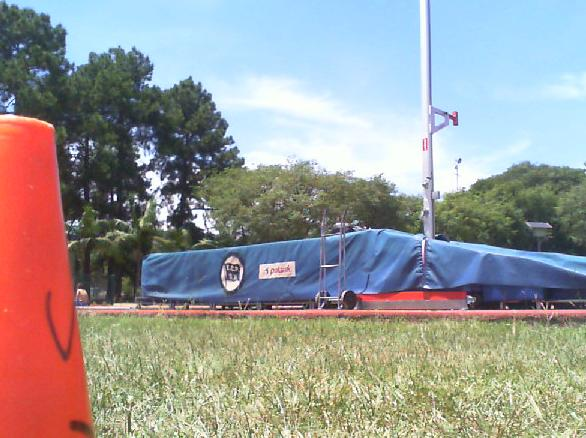0 cone: (0, 115, 98, 438)
